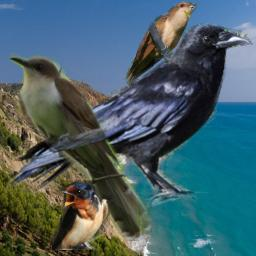Crow: (6, 18, 253, 209)
Cuckoo: (7, 52, 152, 241), (123, 1, 197, 88)
Swallow: (52, 180, 110, 250)
